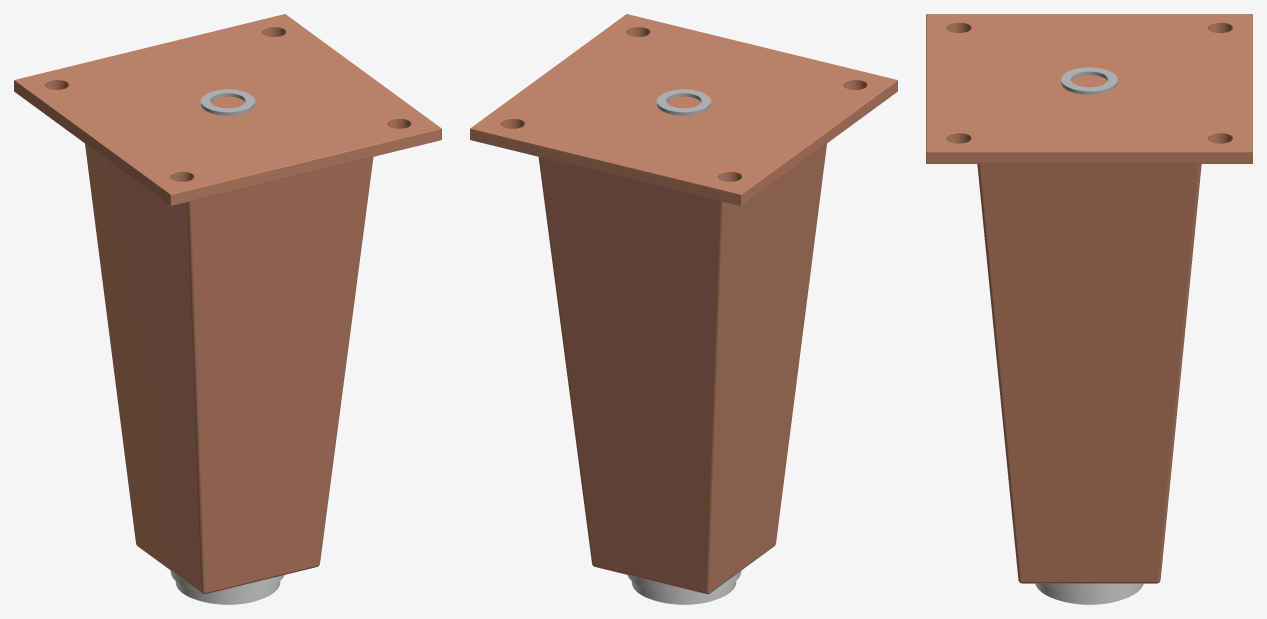
File: sofa-legs-1274.glb
3 views of the same model, side by side, from view 1: azimuth 30°, elevation 25°; view 2: azimuth 150°, elevation 25°; view 3: azimuth 270°, elevation 25° (orthographic). The views are drawn at different scales.
Parts seen in each view (by area): view 1: Body, Plate, Glide, Insert, Tip; view 2: Body, Plate, Glide, Insert, Tip; view 3: Body, Plate, Glide, Insert, Tip.
Boxes of the visible parts, <box> form: Body: <box>85,143,373,594</box>; Plate: <box>14,14,441,205</box>; Glide: <box>175,581,280,604</box>; Insert: <box>201,89,254,115</box>; Tip: <box>170,571,284,595</box>; Body: <box>538,143,826,594</box>; Plate: <box>470,14,897,205</box>; Glide: <box>631,581,736,604</box>; Insert: <box>657,89,710,115</box>; Tip: <box>627,571,741,595</box>; Body: <box>977,164,1201,583</box>; Plate: <box>926,14,1252,163</box>; Glide: <box>1035,583,1143,604</box>; Insert: <box>1061,67,1117,94</box>; Tip: <box>1040,583,1138,594</box>.
Bounding box in the file's own units: 0.06 × 0.1023 × 0.06.
